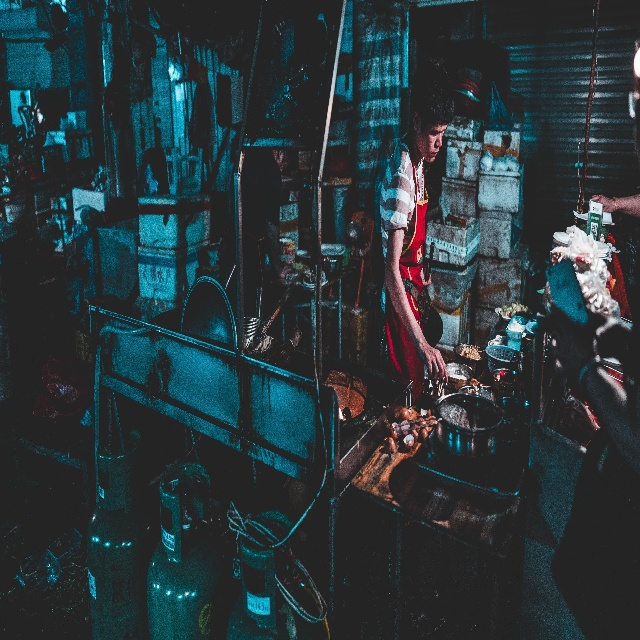Sin_guantes: (550, 299, 598, 373), (417, 340, 449, 385), (592, 193, 616, 214), (420, 268, 432, 288)
